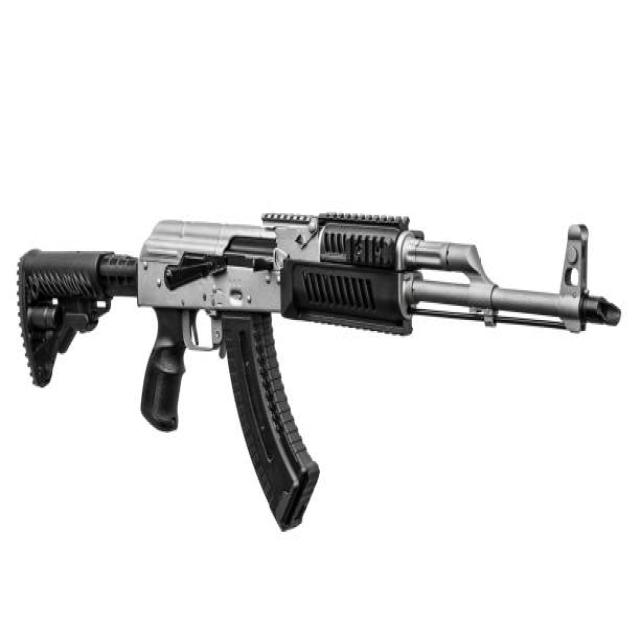rifle: (16, 199, 625, 546)
